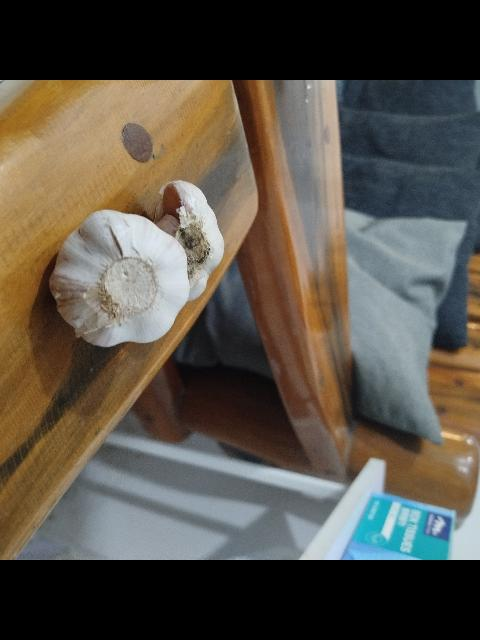garlic: (48, 209, 190, 347)
